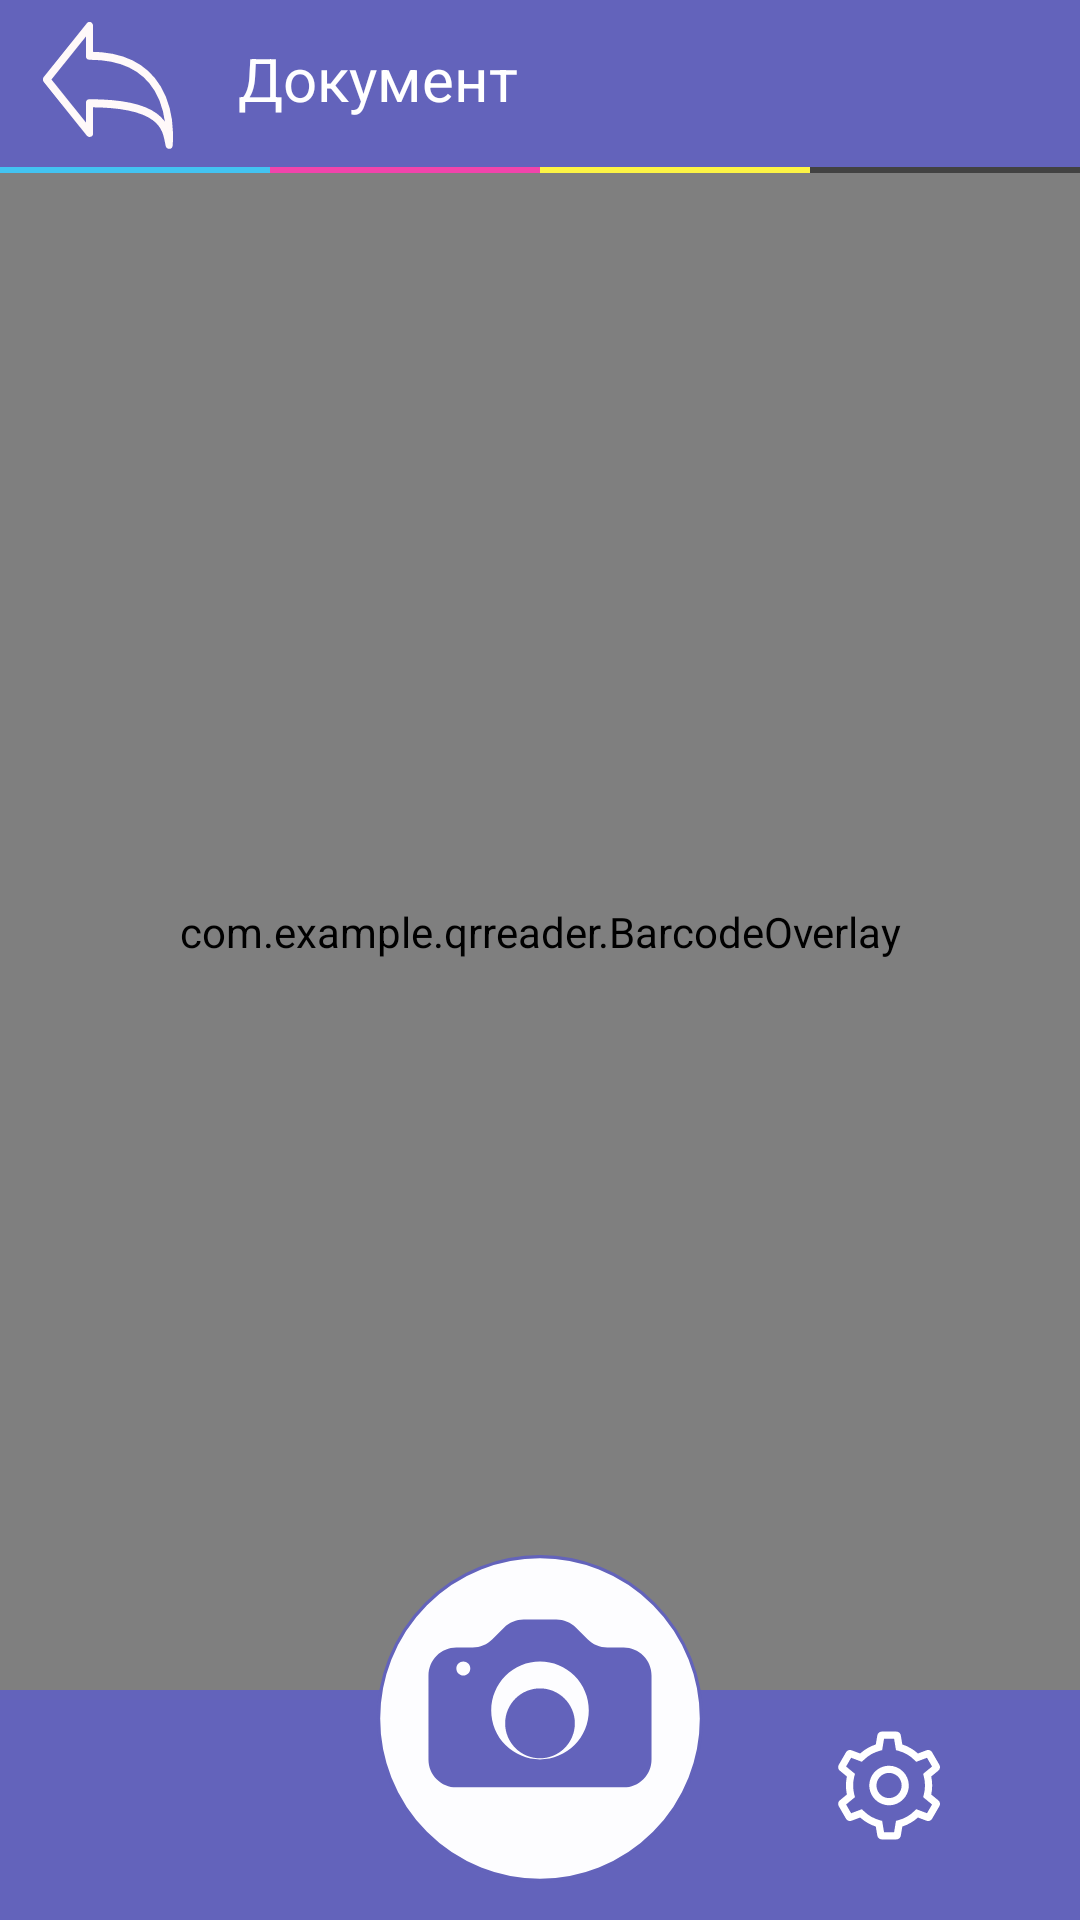

Icon click points for this 1080 × 1920 phone screenshot, format (x,y):
cil settings: (889,1785)
